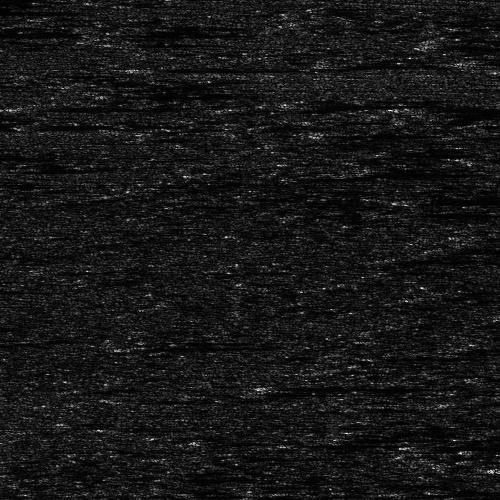object: (336, 435, 500, 456), (350, 99, 423, 116), (231, 381, 314, 390), (0, 102, 76, 111), (382, 196, 445, 203), (465, 461, 500, 472), (470, 156, 500, 165), (122, 64, 163, 69), (127, 343, 158, 348)
shadow: (387, 99, 500, 116), (425, 435, 500, 456), (272, 381, 413, 390), (35, 102, 162, 111), (0, 26, 73, 39), (0, 151, 100, 160), (143, 64, 276, 69), (143, 343, 276, 348), (0, 144, 39, 161), (414, 196, 500, 203)
